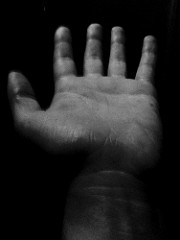palm: (51, 74, 163, 161)
